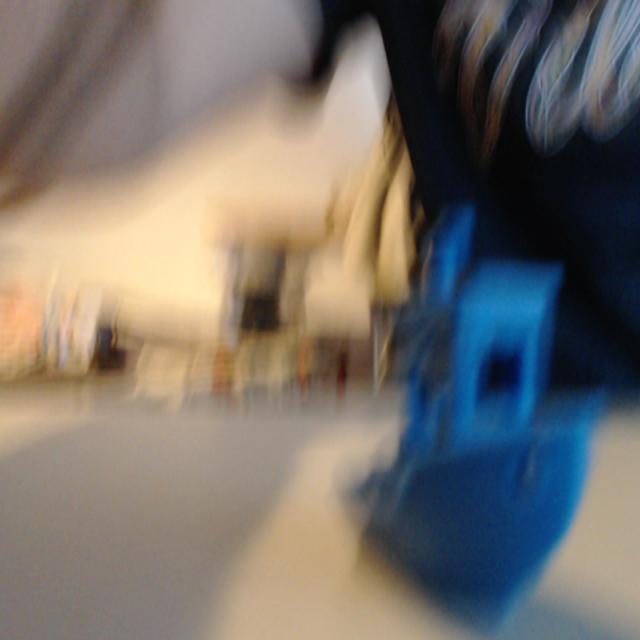benchy: (347, 200, 604, 635)
